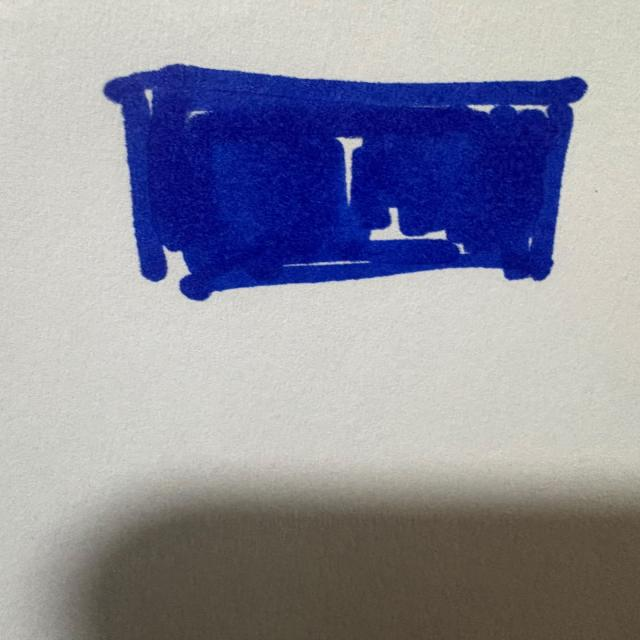Rectangle: (104, 64, 588, 300)
